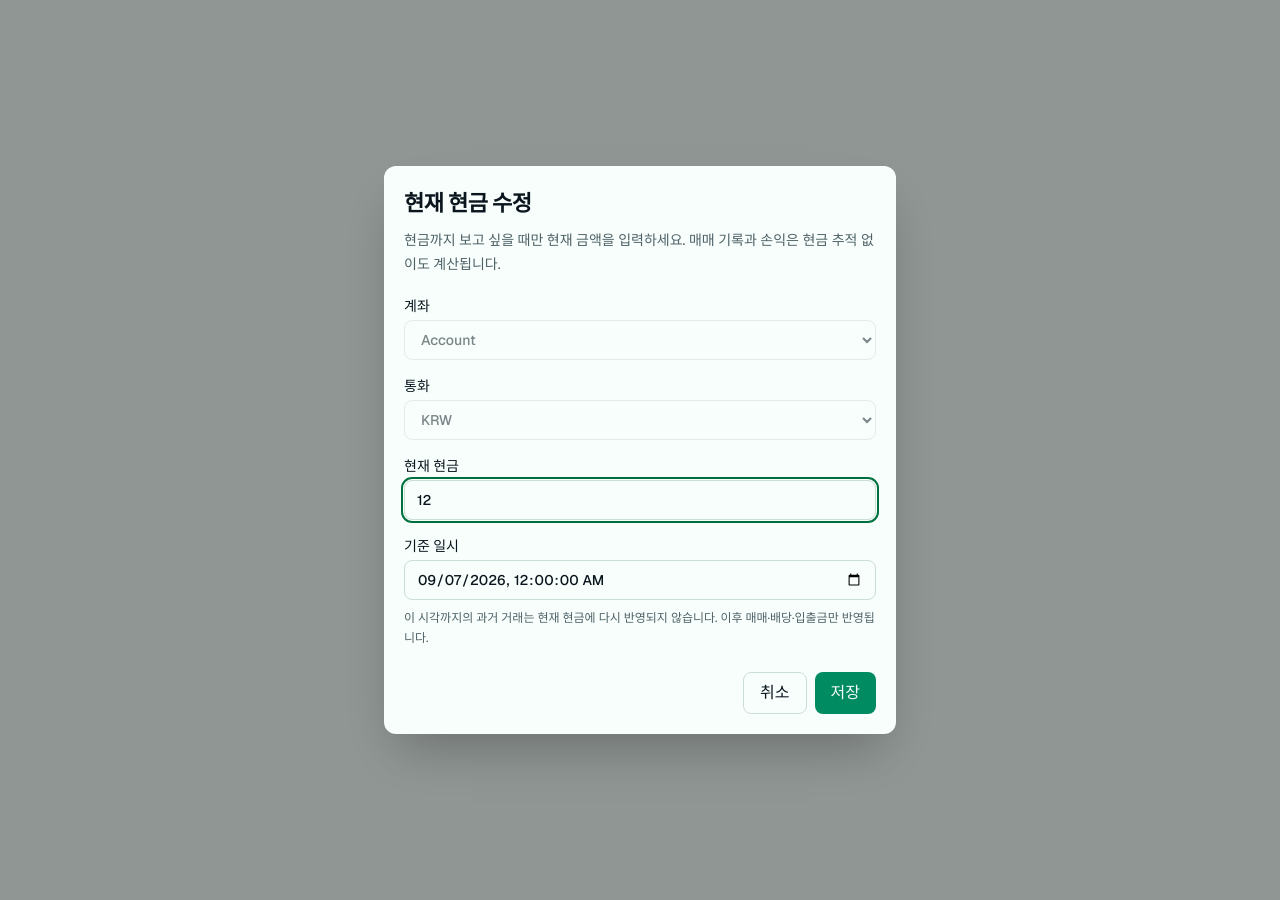
Test: AccountCashBaselineDialog › loads an existing baseline in update mode and rejects a materially future timestamp
The width and height of the screenshot is (1280, 900).
Check: the heading "현재 현금 수정" is shown, box [404, 189, 532, 217]
Check: the dropdown labelled "계좌" is disabled, box [404, 320, 876, 360]
Replace the text in the field labelled "기준 일시" with "2026-09-07T10:06:00" at [640, 580], box [404, 560, 876, 600]
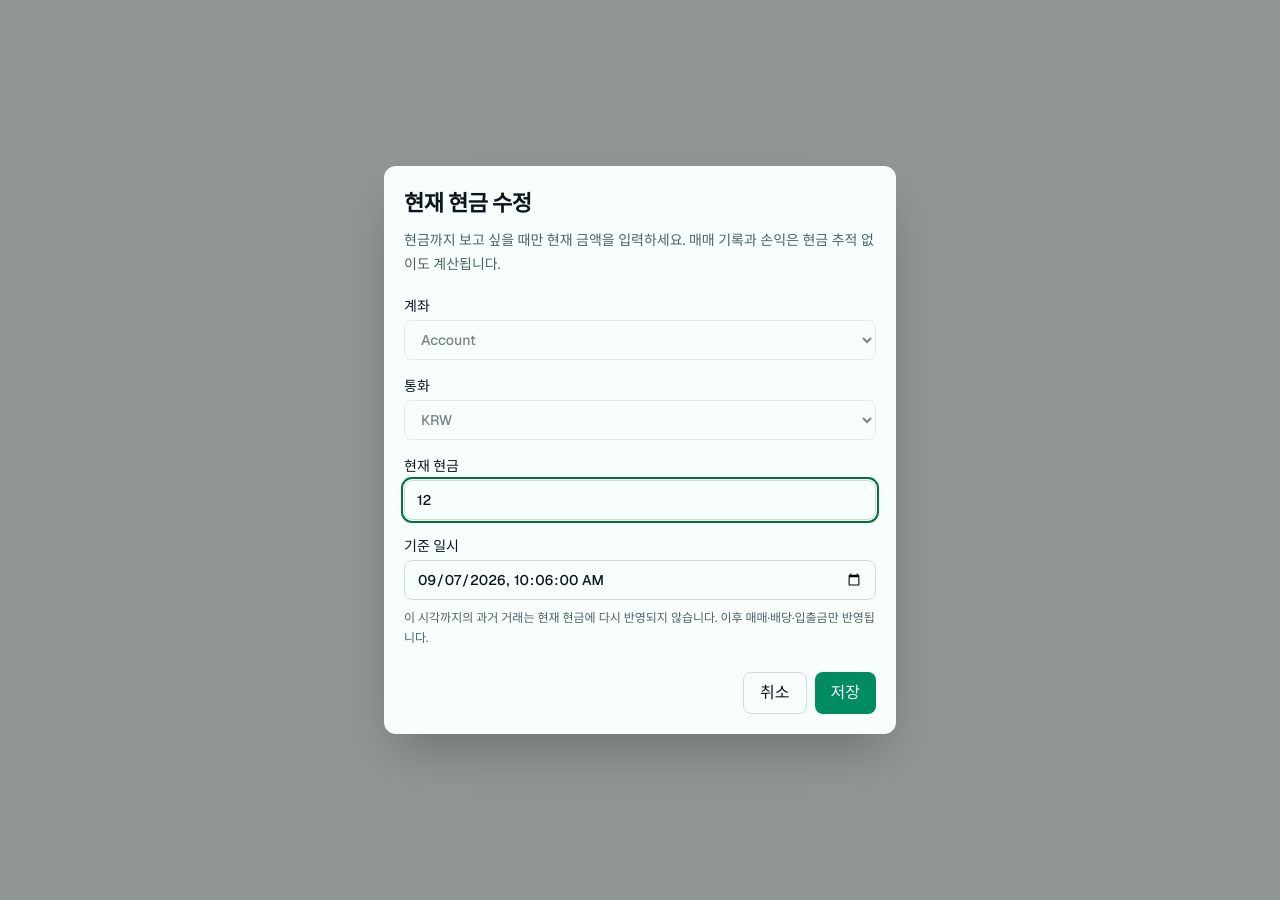
Click the button "저장" at [845, 693], box [814, 672, 876, 714]
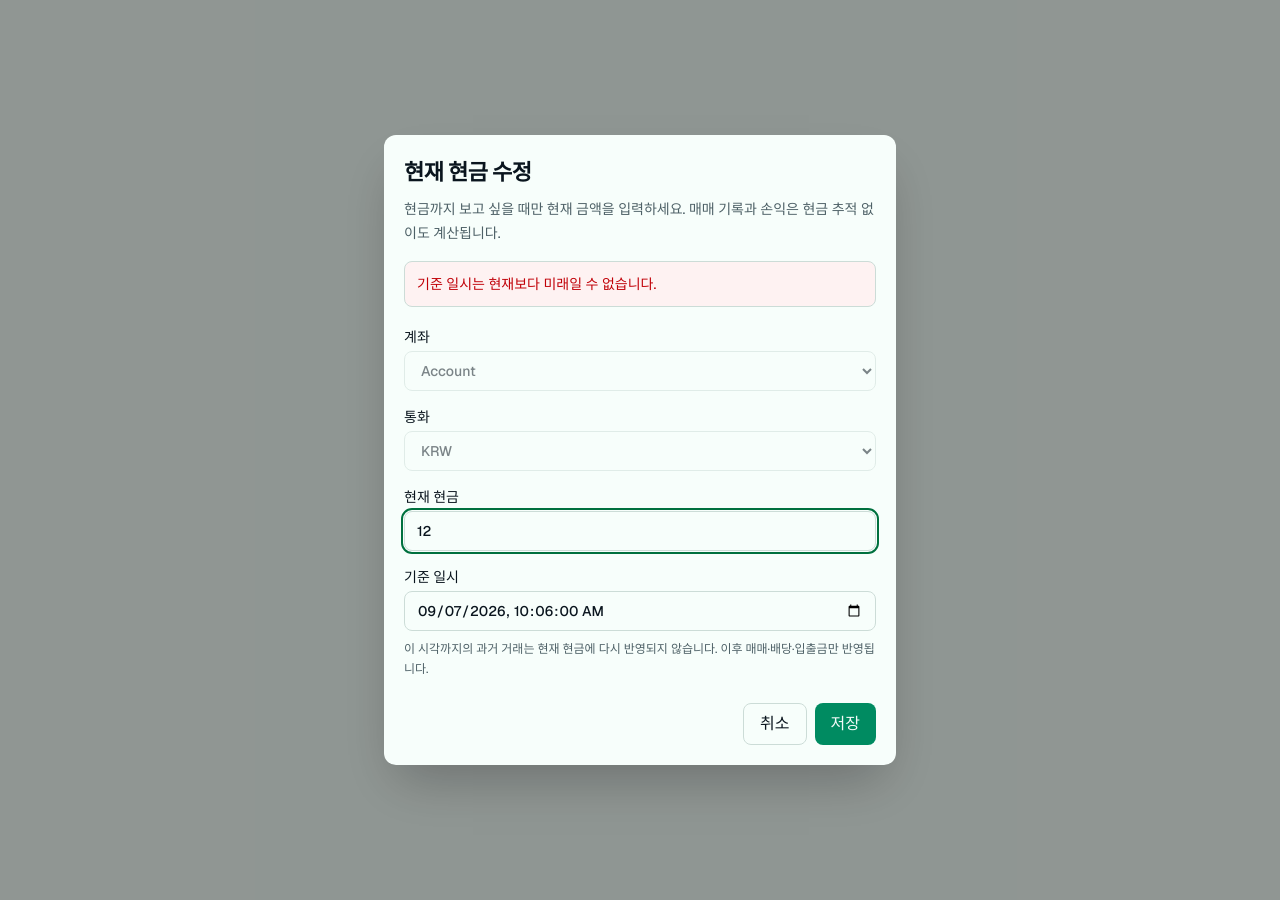
Check: the message shows "미래일 수 없습니다", box [417, 275, 656, 293]
